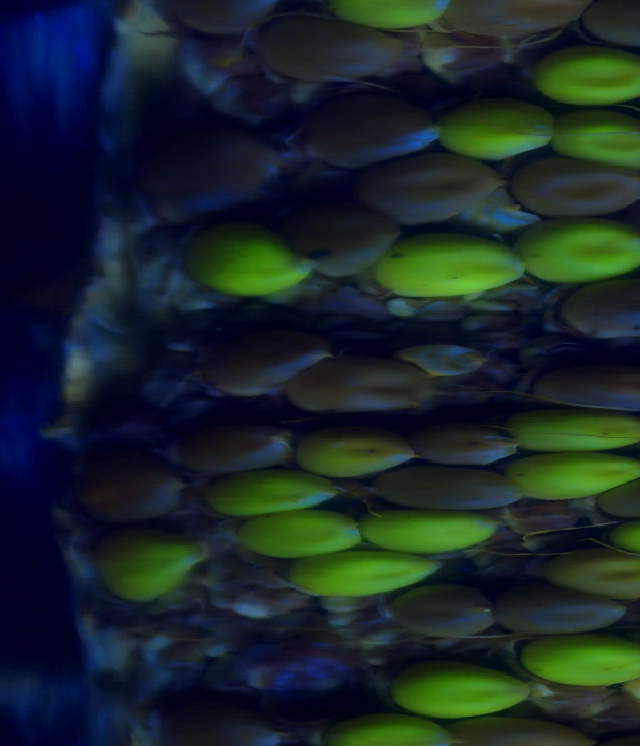fluorescent: (377, 230, 537, 294), (510, 224, 640, 294), (187, 220, 308, 289), (102, 527, 203, 604), (522, 627, 640, 691), (299, 420, 413, 485), (287, 547, 434, 597), (521, 407, 640, 468), (432, 105, 550, 162), (513, 452, 640, 502), (518, 50, 640, 101), (389, 666, 526, 711), (210, 475, 345, 511), (558, 111, 640, 166), (363, 516, 490, 550), (245, 513, 361, 550), (337, 1, 451, 33), (356, 714, 454, 746)
nonfluorescent: (273, 178, 396, 271), (150, 101, 270, 195), (308, 79, 437, 158), (261, 17, 397, 87), (203, 318, 322, 388), (373, 159, 503, 220), (493, 581, 629, 633), (513, 156, 640, 211), (293, 360, 439, 407), (90, 456, 182, 523), (386, 468, 522, 511), (183, 413, 289, 466), (544, 352, 640, 408), (402, 582, 489, 636), (448, 1, 581, 31), (553, 279, 640, 323), (174, 1, 267, 42), (428, 436, 524, 463), (586, 2, 640, 47)
